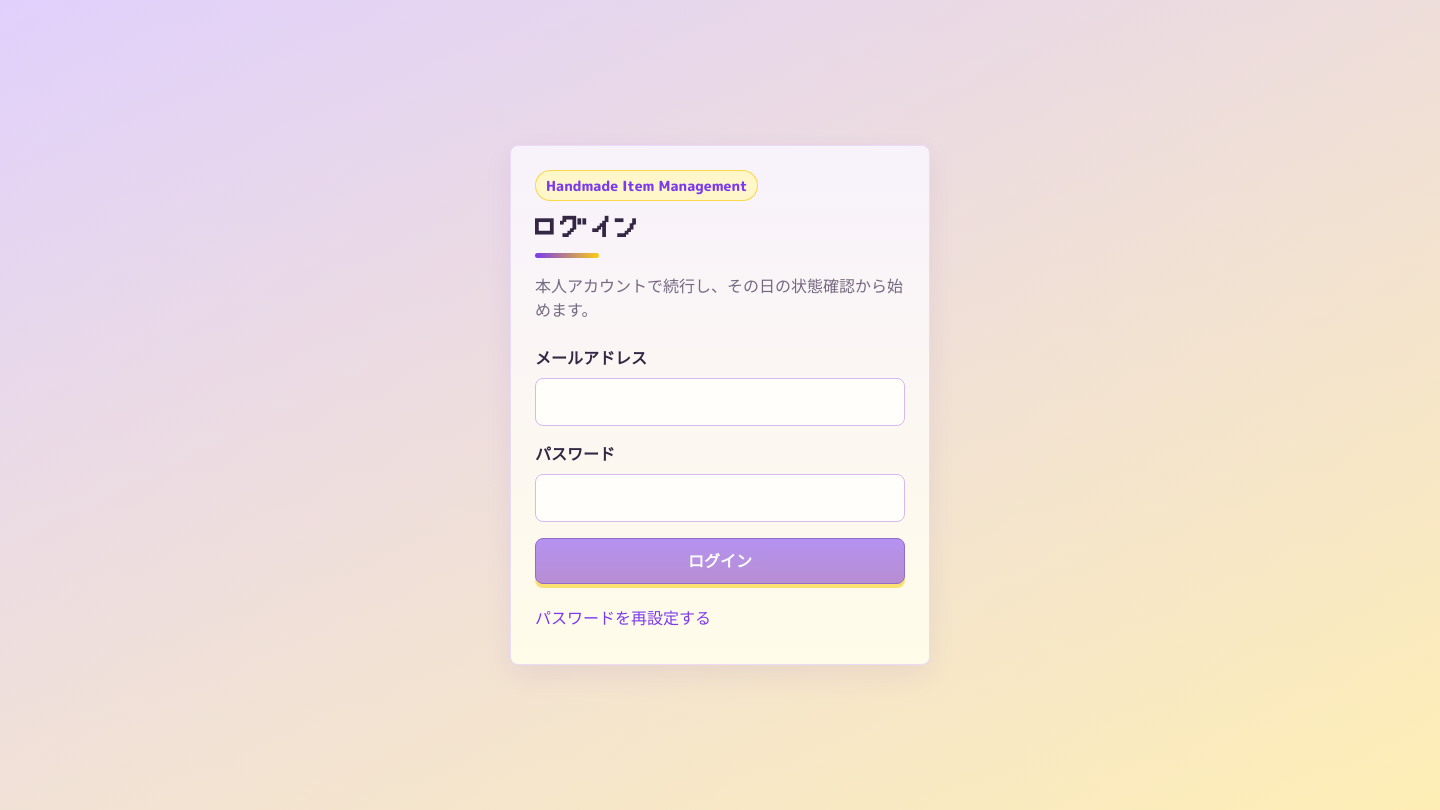
Test: LoginRoute › shows the login record failure message when login record submission fails
Type "owner@example.com" into the field labelled "メールアドレス" at point(720, 402), box [535,378,905,426]
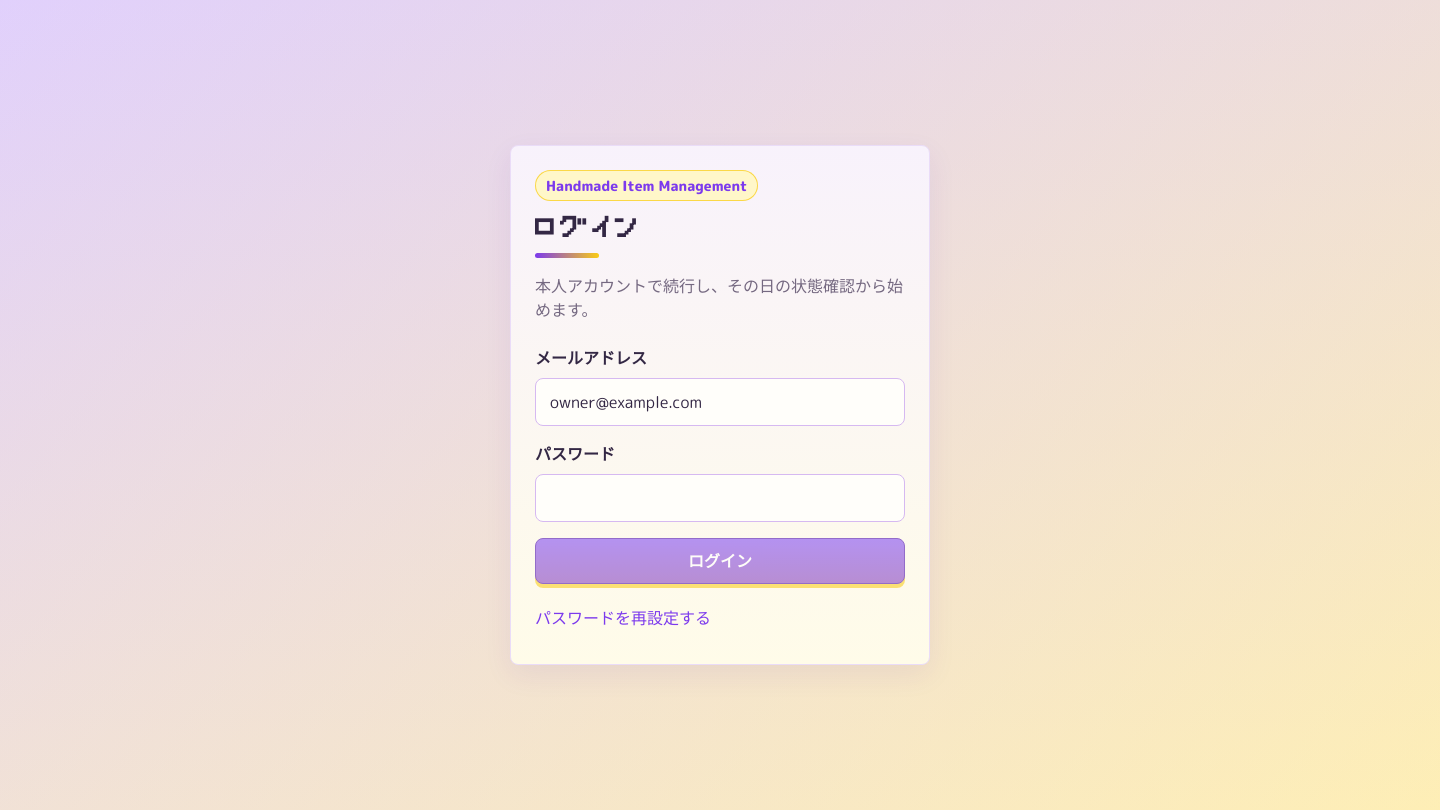
Type "password123" into the password field labelled "パスワード" at point(720, 498), box [535,474,905,522]
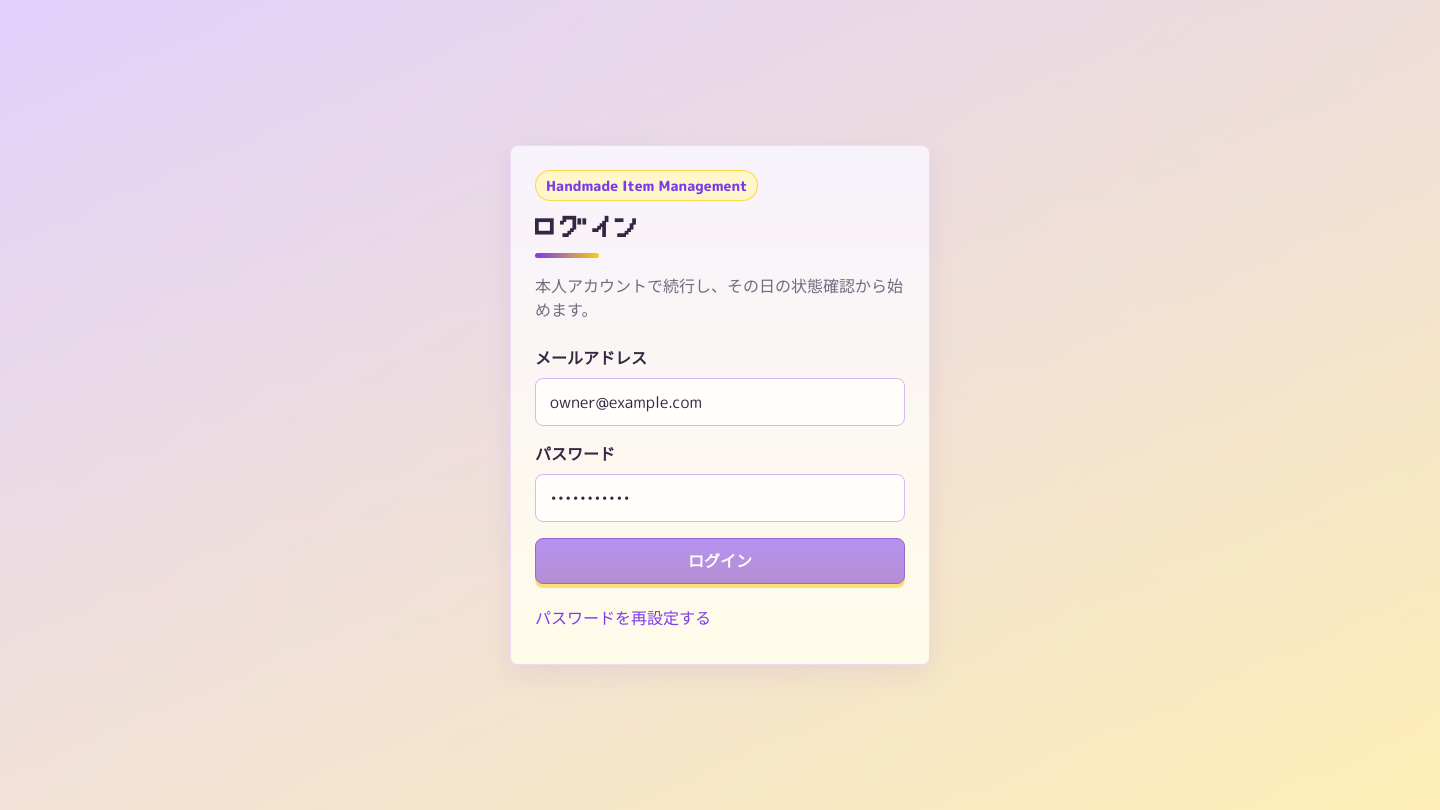
Leave the password field labelled "パスワード", box [535,474,905,522]
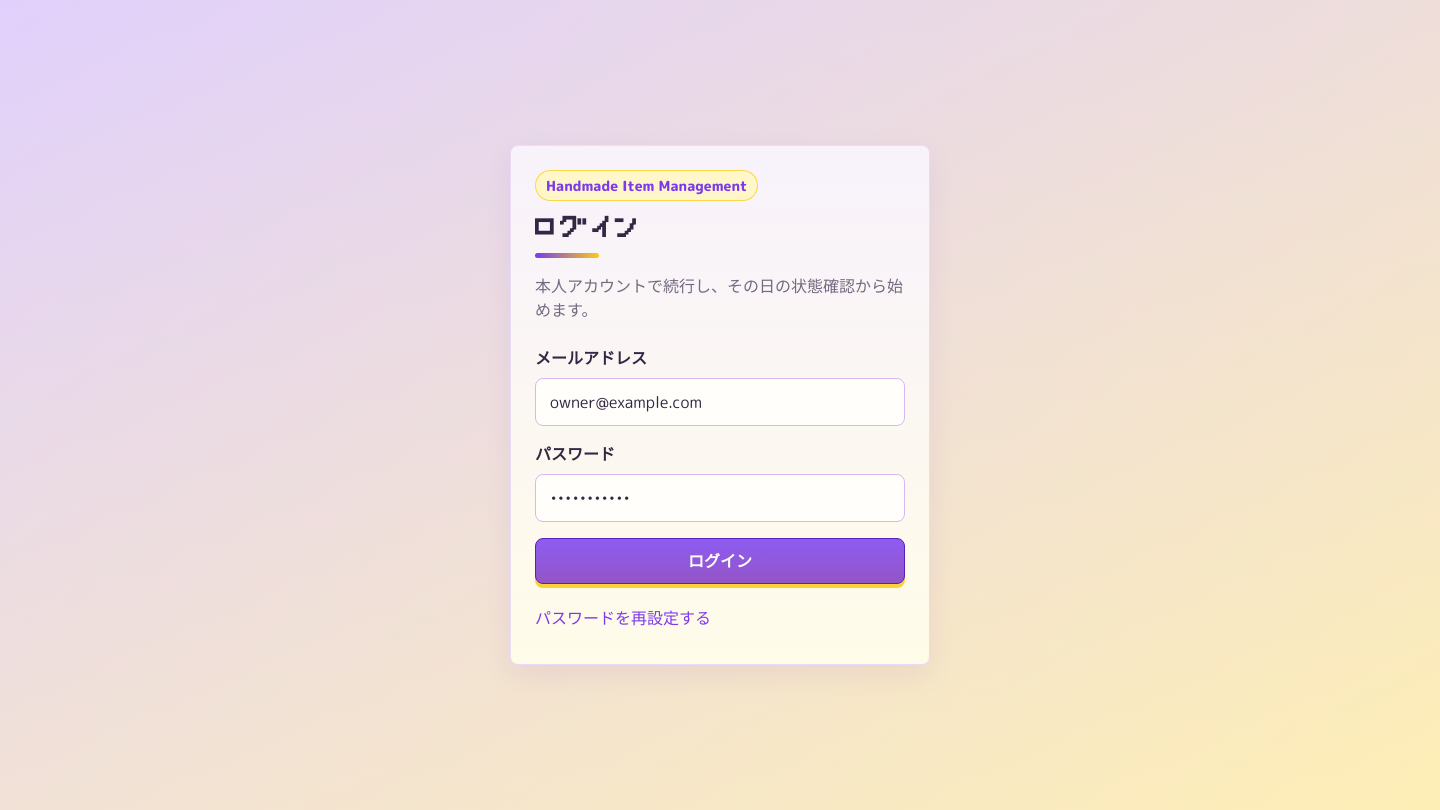
Now the button "ログイン" is enabled
Click the button "ログイン" at point(720, 561), box [535,538,905,584]
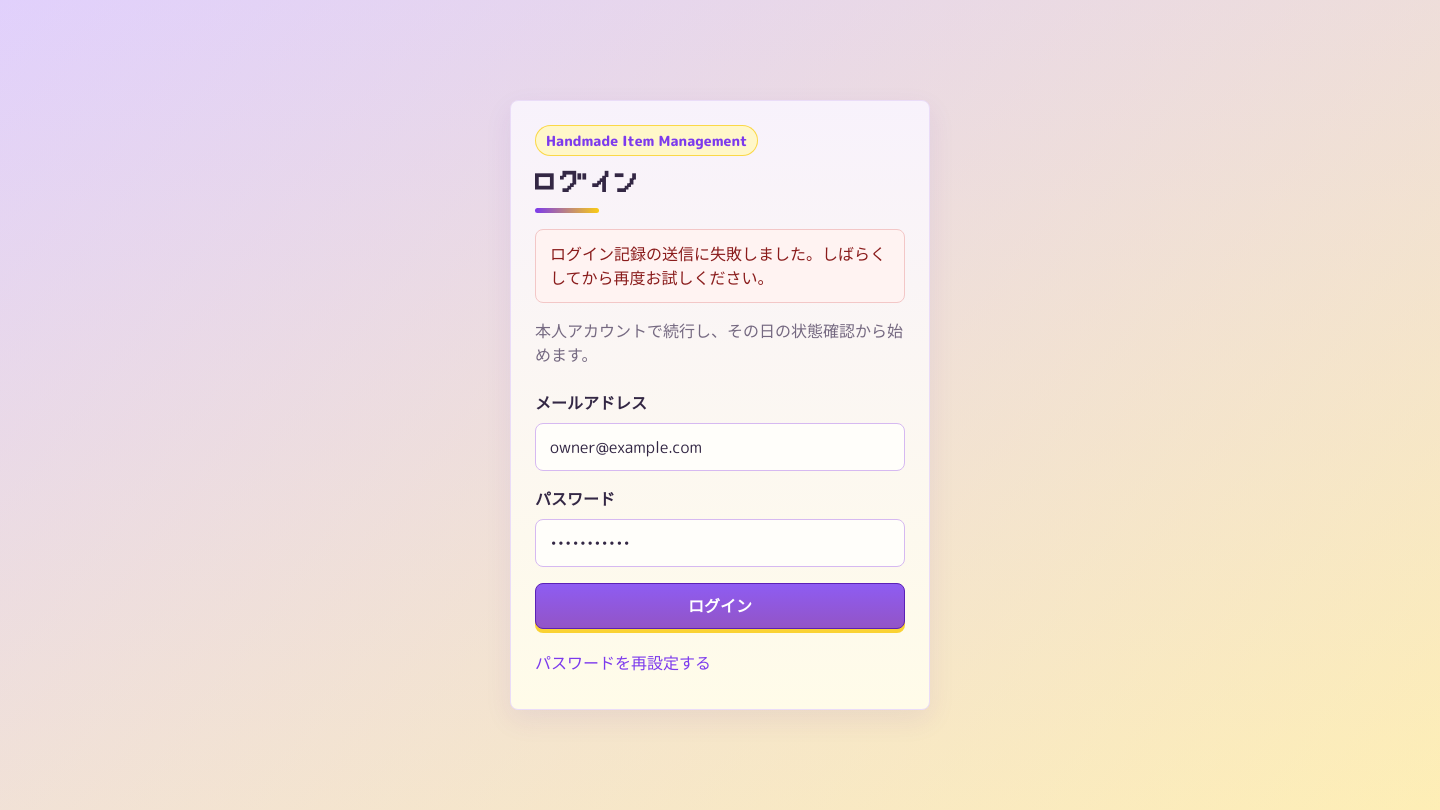
Now the text "ログイン記録の送信に失敗しました。しばらくしてから再度お試しください。" is shown, box [535,229,905,303]
